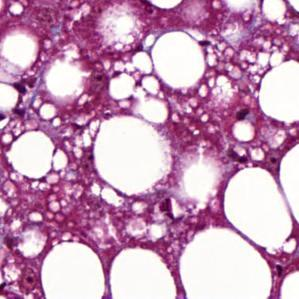steatosis: (150, 27, 206, 89), (9, 129, 59, 182)
